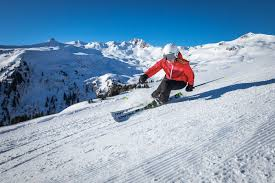snowboard: (109, 92, 180, 123)
